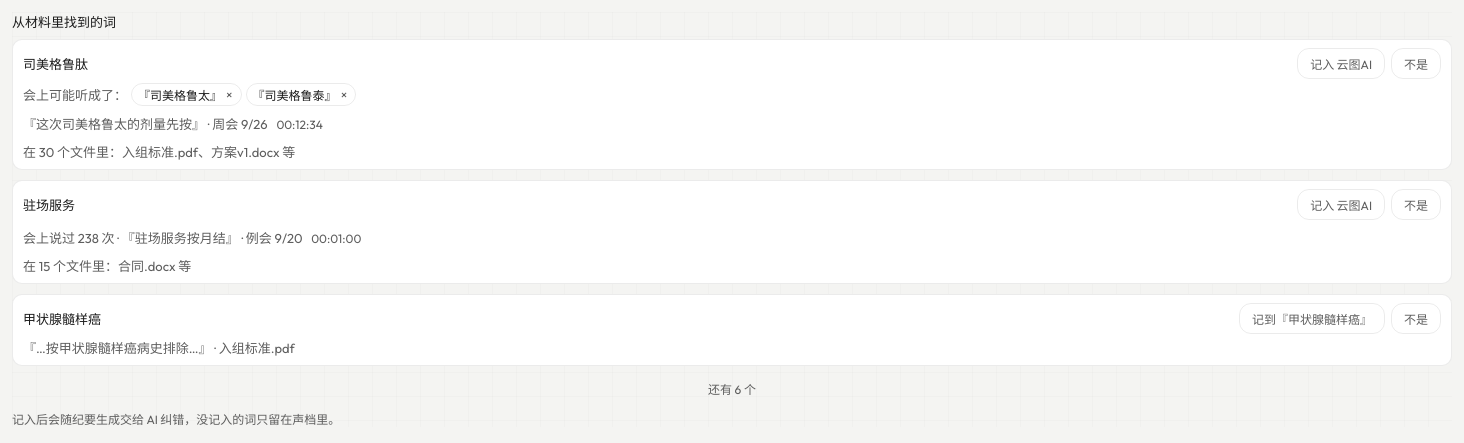
Test: MaterialWords › sends the removed chips as not_wrong and shows the undo hint
Click the button named "不是听错：司美格鲁泰": (344, 94) [339, 87, 349, 102]
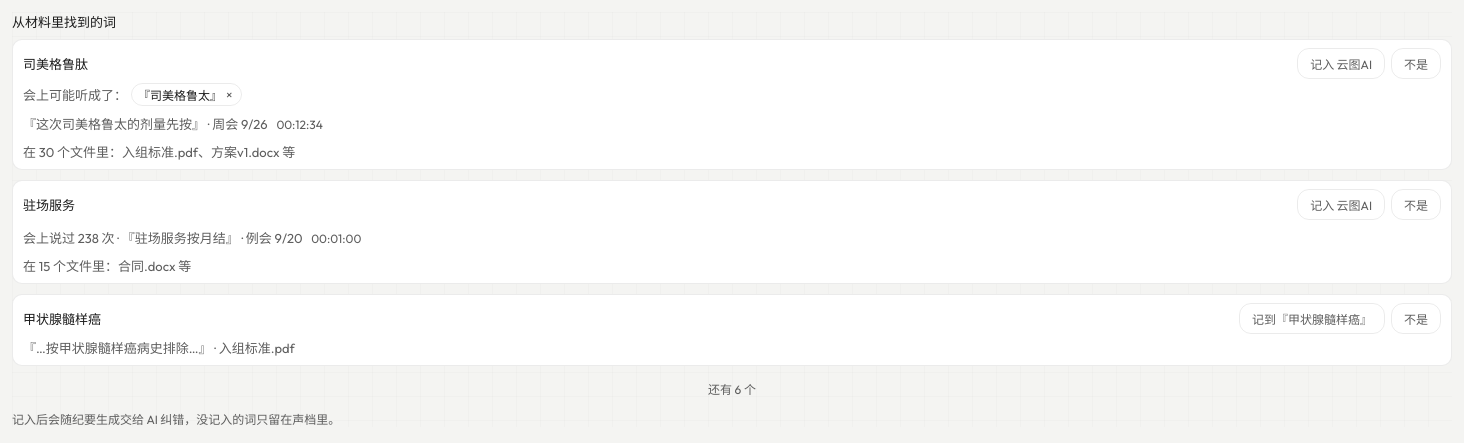
Result: the text "『司美格鲁泰』" is gone
Click the button "记入 云图AI" in the row of "司美格鲁肽": (1341, 64) [1297, 48, 1385, 79]
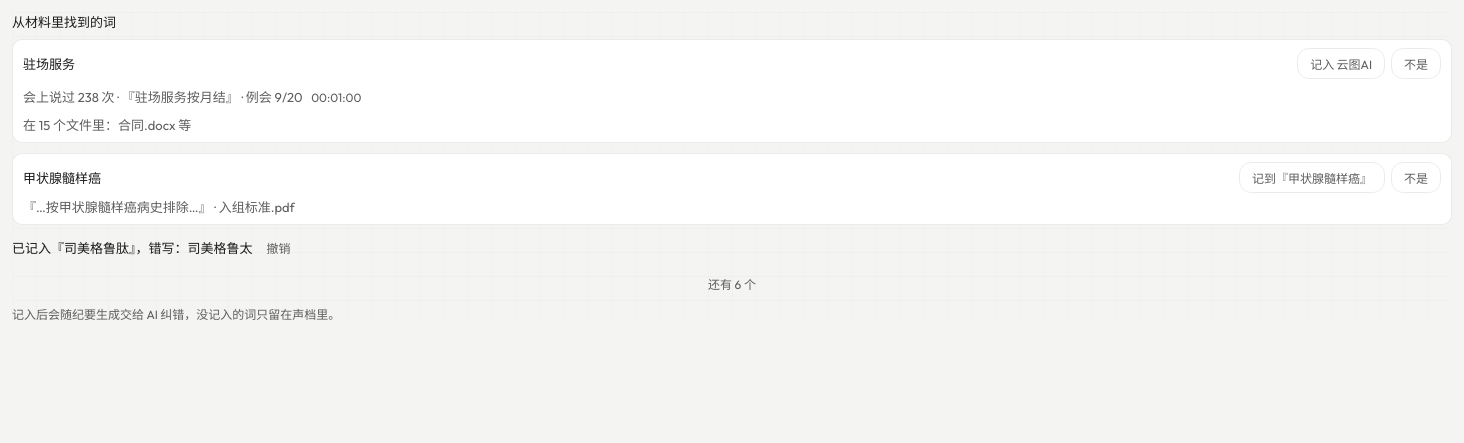
Result: the text "已记入『司美格鲁肽』，错写：司美格鲁太" is shown at [12, 238, 252, 256]
Result: the button "撤销" is shown at [260, 233, 296, 261]
